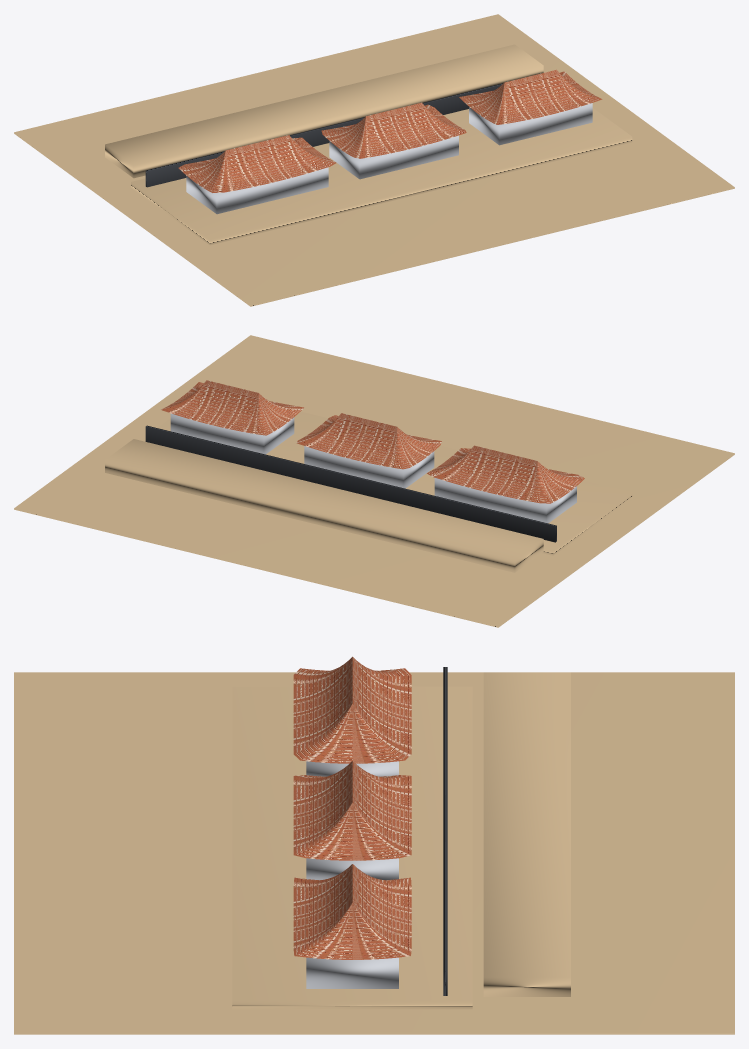
3 renders of one model, top to bottom at view 1: azimuth 30°, elevation 25°; view 2: azimuth 150°, elevation 25°; view 3: azimuth 270°, elevation 25°, orthographic. The views are drawn at different scales.
Visible parts, largest first — view 1: ground_simplified, garden_simplified, roofs_simplified, halls_simplified; view 2: ground_simplified, garden_simplified, roofs_simplified, halls_simplified; view 3: ground_simplified, roofs_simplified, garden_simplified, halls_simplified.
Boxes of the visible parts, box(x1,y1,x2,y2) form: ground_simplified: box(14, 14, 734, 306); garden_simplified: box(105, 44, 543, 187); roofs_simplified: box(178, 69, 602, 192); halls_simplified: box(186, 103, 592, 214); ground_simplified: box(14, 335, 734, 627); garden_simplified: box(105, 425, 556, 572); roofs_simplified: box(161, 380, 584, 503); halls_simplified: box(170, 413, 576, 523); ground_simplified: box(14, 672, 734, 1034); roofs_simplified: box(293, 656, 411, 959); garden_simplified: box(443, 667, 570, 996); halls_simplified: box(306, 761, 398, 988).
Bounding box in the file's own units: 78 × 8.3 × 66.
Materials: 4 (4 with a texture image).
